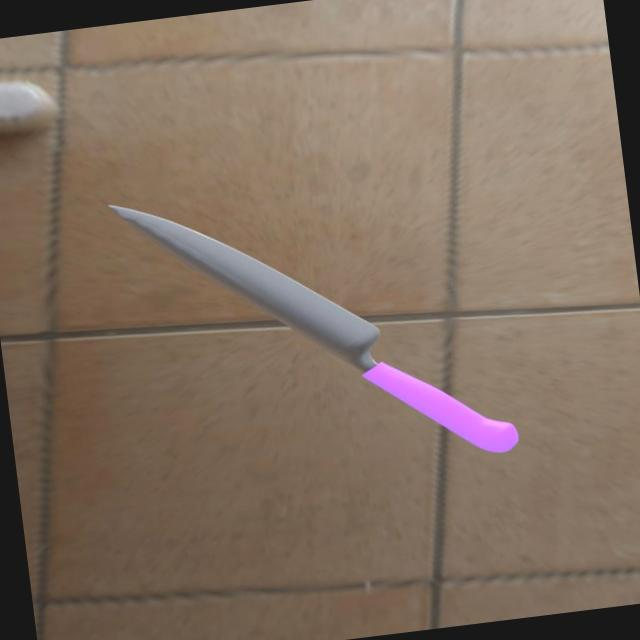knife: (360, 345, 520, 468)
